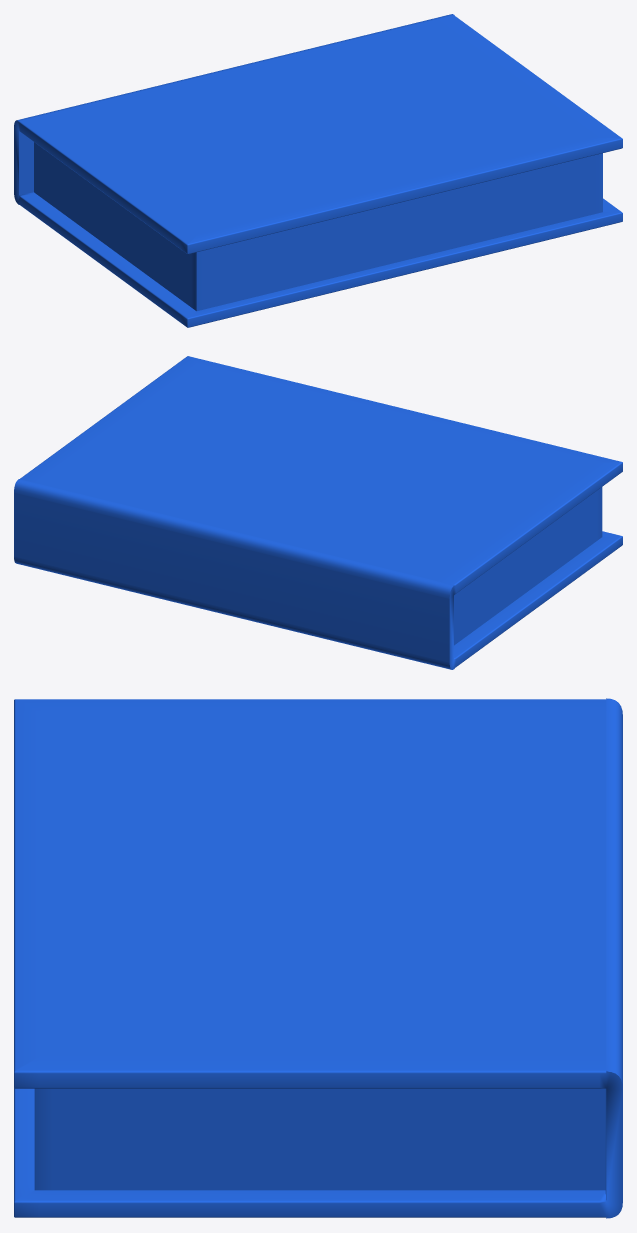
File: Libro.fbx
3 views of the same model, one above another, from view 1: azimuth 30°, elevation 25°; view 2: azimuth 150°, elevation 25°; view 3: azimuth 270°, elevation 25° (orthographic). The views are drawn at different scales.
Parts seen in each view (by area): view 1: Libro; view 2: Libro; view 3: Libro.
Part boxes in pixels (x1=…): Libro: x1=14, y1=14, x2=622, y2=327; Libro: x1=14, y1=356, x2=622, y2=669; Libro: x1=14, y1=698, x2=622, y2=1218.
Bounding box in the file's own units: 21.89 × 4.02 × 15.1.
